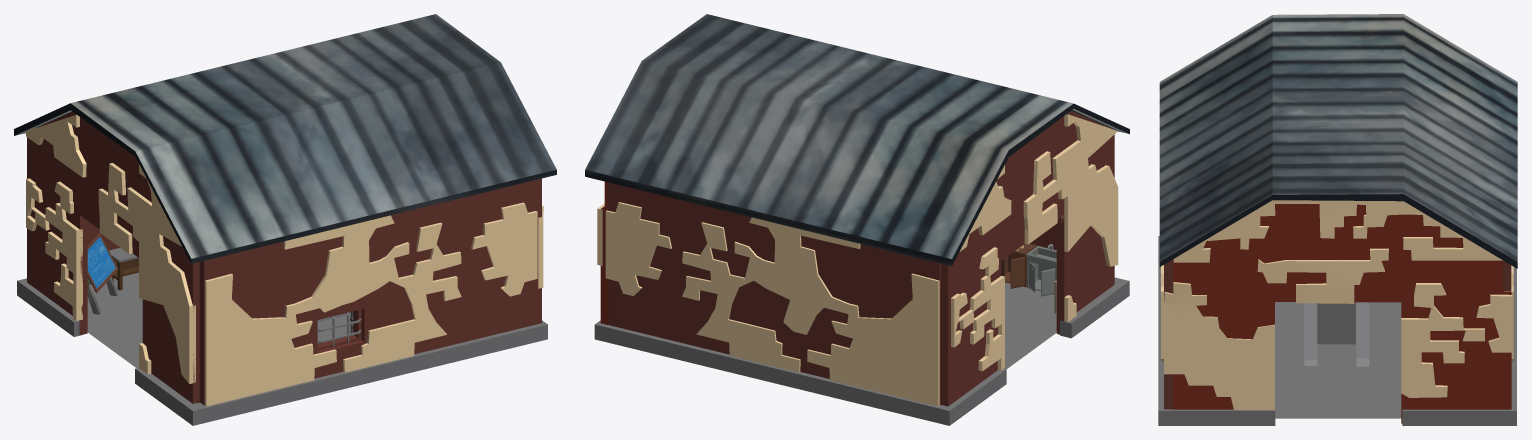
The model's file is Garage_no-d.fbx.
3 views of the same model, side by side, from view 1: azimuth 30°, elevation 25°; view 2: azimuth 150°, elevation 25°; view 3: azimuth 270°, elevation 25° (orthographic).
Parts seen in each view (by area): view 1: Garage_M_A2:motobikegarage_vnutrilow1GARAGE1polySurface2367; view 2: Garage_M_A2:motobikegarage_vnutrilow1GARAGE1polySurface2367; view 3: Garage_M_A2:motobikegarage_vnutrilow1GARAGE1polySurface2367.
Part boxes in pixels (bbox=[...]): Garage_M_A2:motobikegarage_vnutrilow1GARAGE1polySurface2367: bbox=[14, 14, 556, 425]; Garage_M_A2:motobikegarage_vnutrilow1GARAGE1polySurface2367: bbox=[585, 14, 1129, 425]; Garage_M_A2:motobikegarage_vnutrilow1GARAGE1polySurface2367: bbox=[1158, 14, 1517, 425].
Size of the model in its own units: 799 by 572 by 674.
